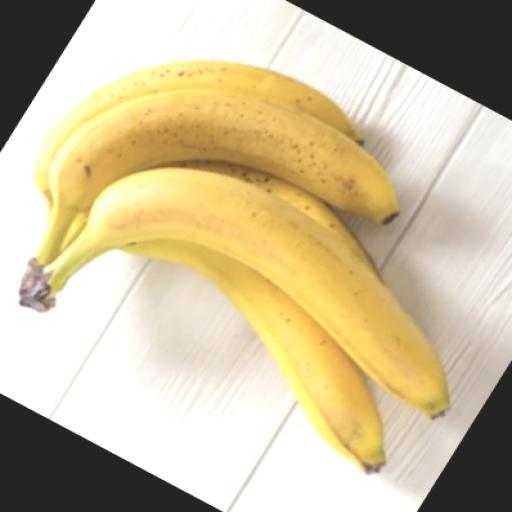banana-ripe: (0, 12, 505, 469)
